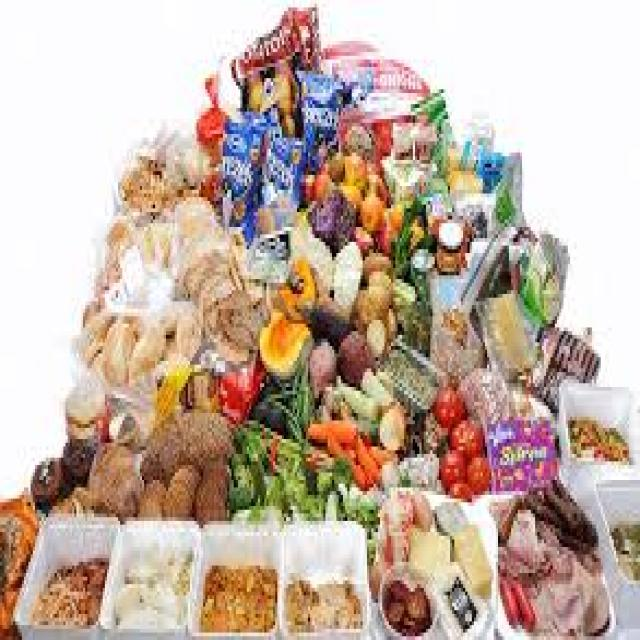Organik: (1, 1, 640, 640), (13, 510, 371, 640)
